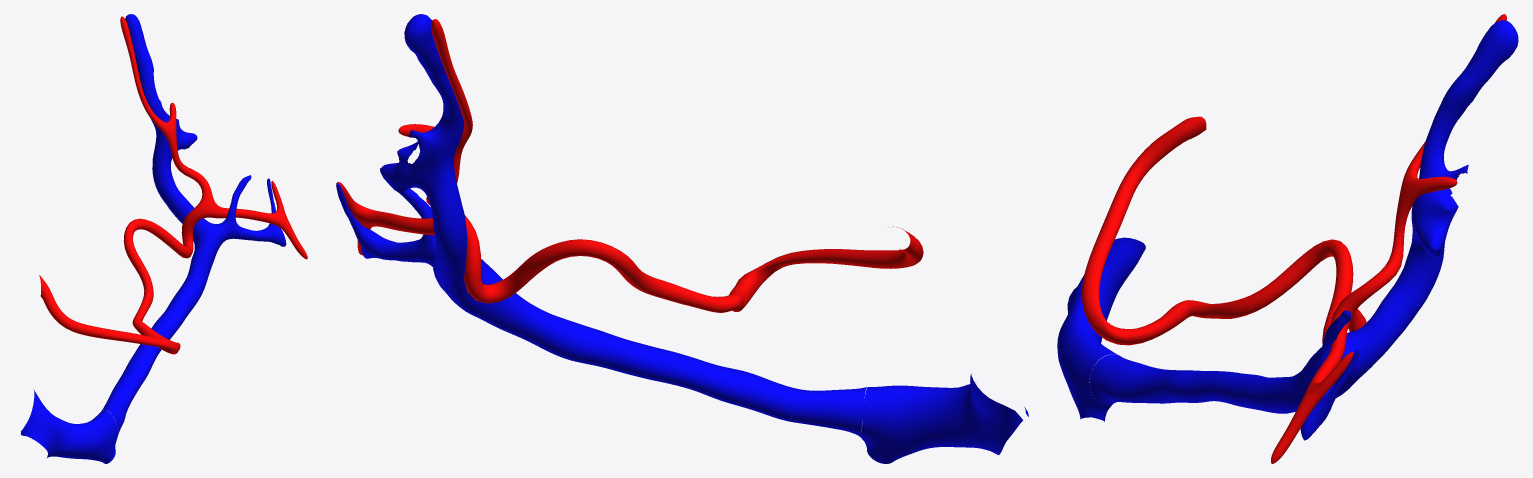
Rendered from 3d-vh-f-spleen-landmark.glb.
3 views of the same model, side by side, from view 1: azimuth 30°, elevation 25°; view 2: azimuth 150°, elevation 25°; view 3: azimuth 270°, elevation 25° (orthographic). The views are drawn at different scales.
Visible parts, largest first — view 1: VH_F_spleen_landmark_splenic_vein, VH_F_spleen_landmark_splenic_artery; view 2: VH_F_spleen_landmark_splenic_vein, VH_F_spleen_landmark_splenic_artery; view 3: VH_F_spleen_landmark_splenic_vein, VH_F_spleen_landmark_splenic_artery.
Boxes of the visible parts, box(x1,y1,x2,y2) form: VH_F_spleen_landmark_splenic_vein: box(21, 14, 286, 463); VH_F_spleen_landmark_splenic_artery: box(39, 16, 307, 354); VH_F_spleen_landmark_splenic_vein: box(336, 14, 1028, 463); VH_F_spleen_landmark_splenic_artery: box(337, 19, 923, 312); VH_F_spleen_landmark_splenic_vein: box(1057, 20, 1518, 440); VH_F_spleen_landmark_splenic_artery: box(1081, 14, 1506, 463).
Bounding box in the file's own units: 0.1125 × 0.1007 × 0.0804.
